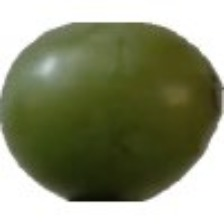grapes: (40, 26, 187, 224)
